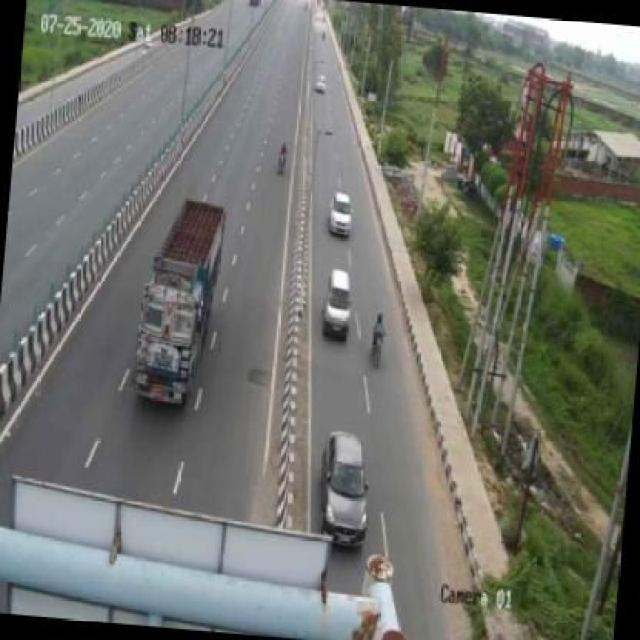car: (309, 423, 383, 552), (321, 269, 354, 342), (330, 192, 356, 238)
